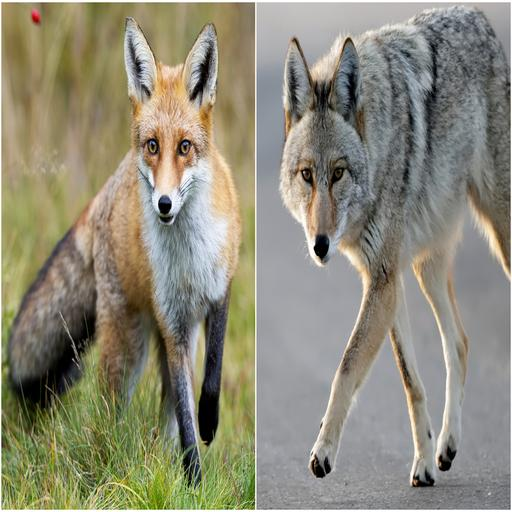Fox: (9, 20, 245, 496)
Wolf: (280, 5, 512, 490)
